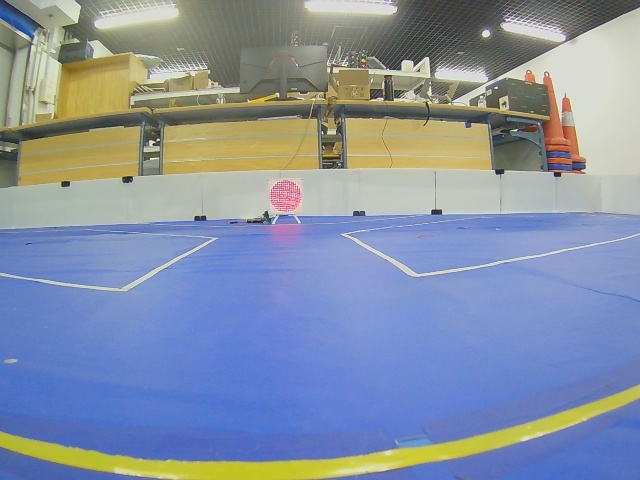red: (269, 179, 301, 214)
